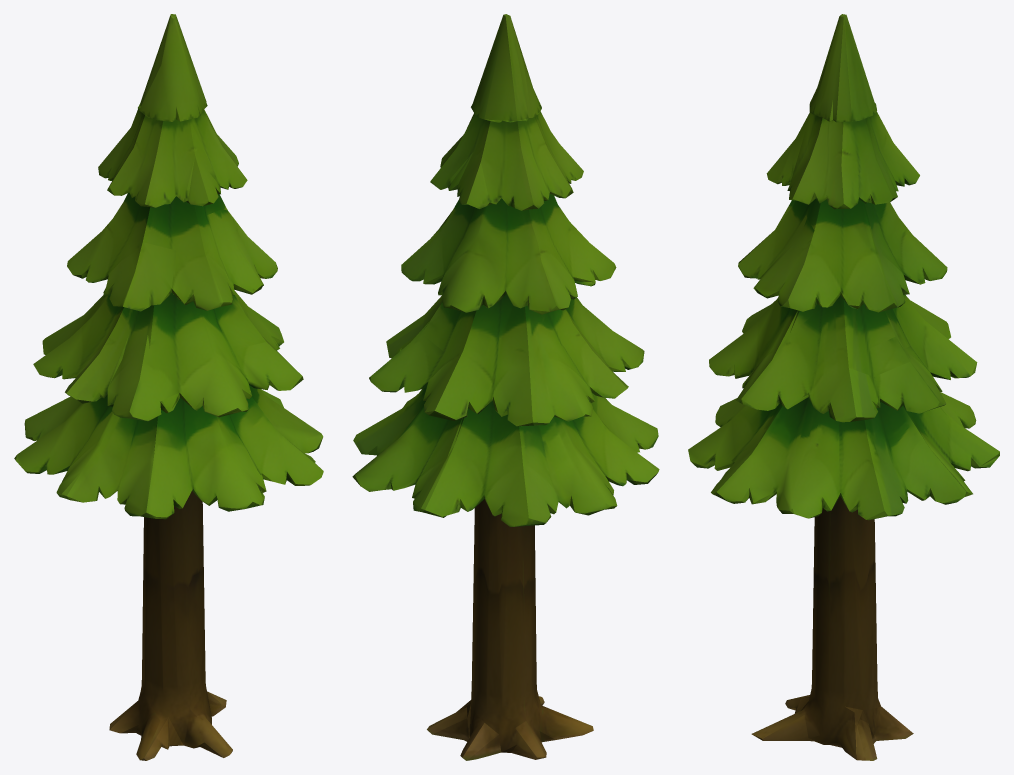
3 renders of one model, left to right at view 1: azimuth 30°, elevation 25°; view 2: azimuth 150°, elevation 25°; view 3: azimuth 270°, elevation 25°, orthographic.
Parts seen in each view (by area): view 1: Tree, pen; view 2: Tree, pen; view 3: Tree, pen.
Part boxes in pixels (<box>): Tree: <box>14,14,323,686</box>; pen: <box>109,676,232,760</box>; Tree: <box>352,14,659,696</box>; pen: <box>427,681,593,760</box>; Tree: <box>688,14,999,692</box>; pen: <box>751,679,913,760</box>.
Size of the model in its own units: 55.33 by 145 by 57.17.
